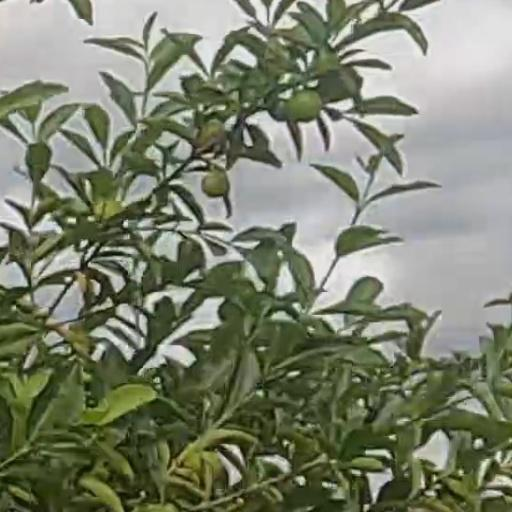acerola_verde: (291, 92, 321, 120), (202, 172, 228, 195)
